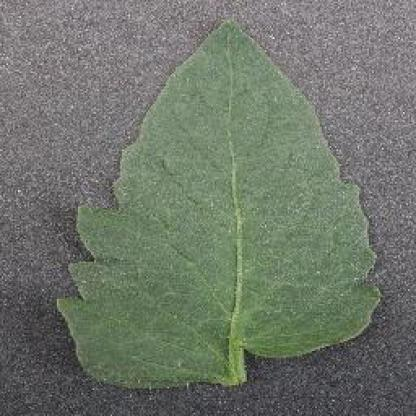good leaf: (96, 63, 371, 352)
